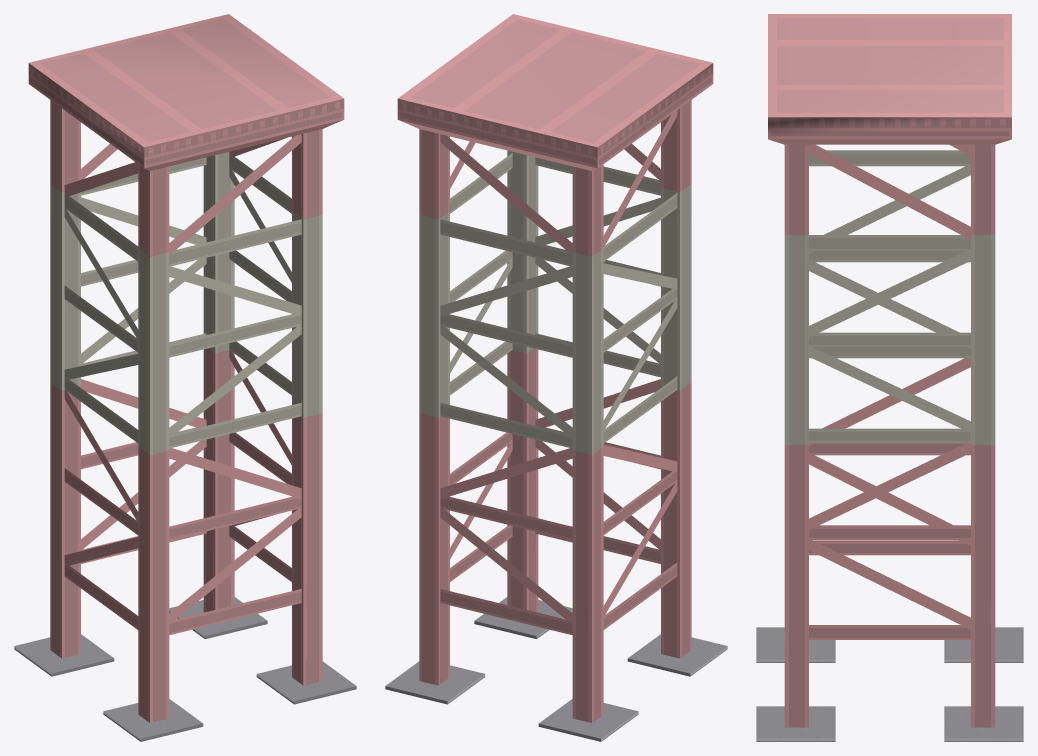
File: 02bd_Crane_Scaffold.glb
3 views of the same model, side by side, from view 1: azimuth 30°, elevation 25°; view 2: azimuth 150°, elevation 25°; view 3: azimuth 270°, elevation 25° (orthographic). The views are drawn at different scales.
Visible parts, largest first — view 1: part_0; view 2: part_0; view 3: part_0.
Boxes of the visible parts, <box> form: part_0: <box>14,14,356,741</box>; part_0: <box>385,14,727,741</box>; part_0: <box>756,14,1023,741</box>.
Bounding box in the file's own units: 5.35 × 13.92 × 5.43.
Materials: 1 (1 with a texture image).
